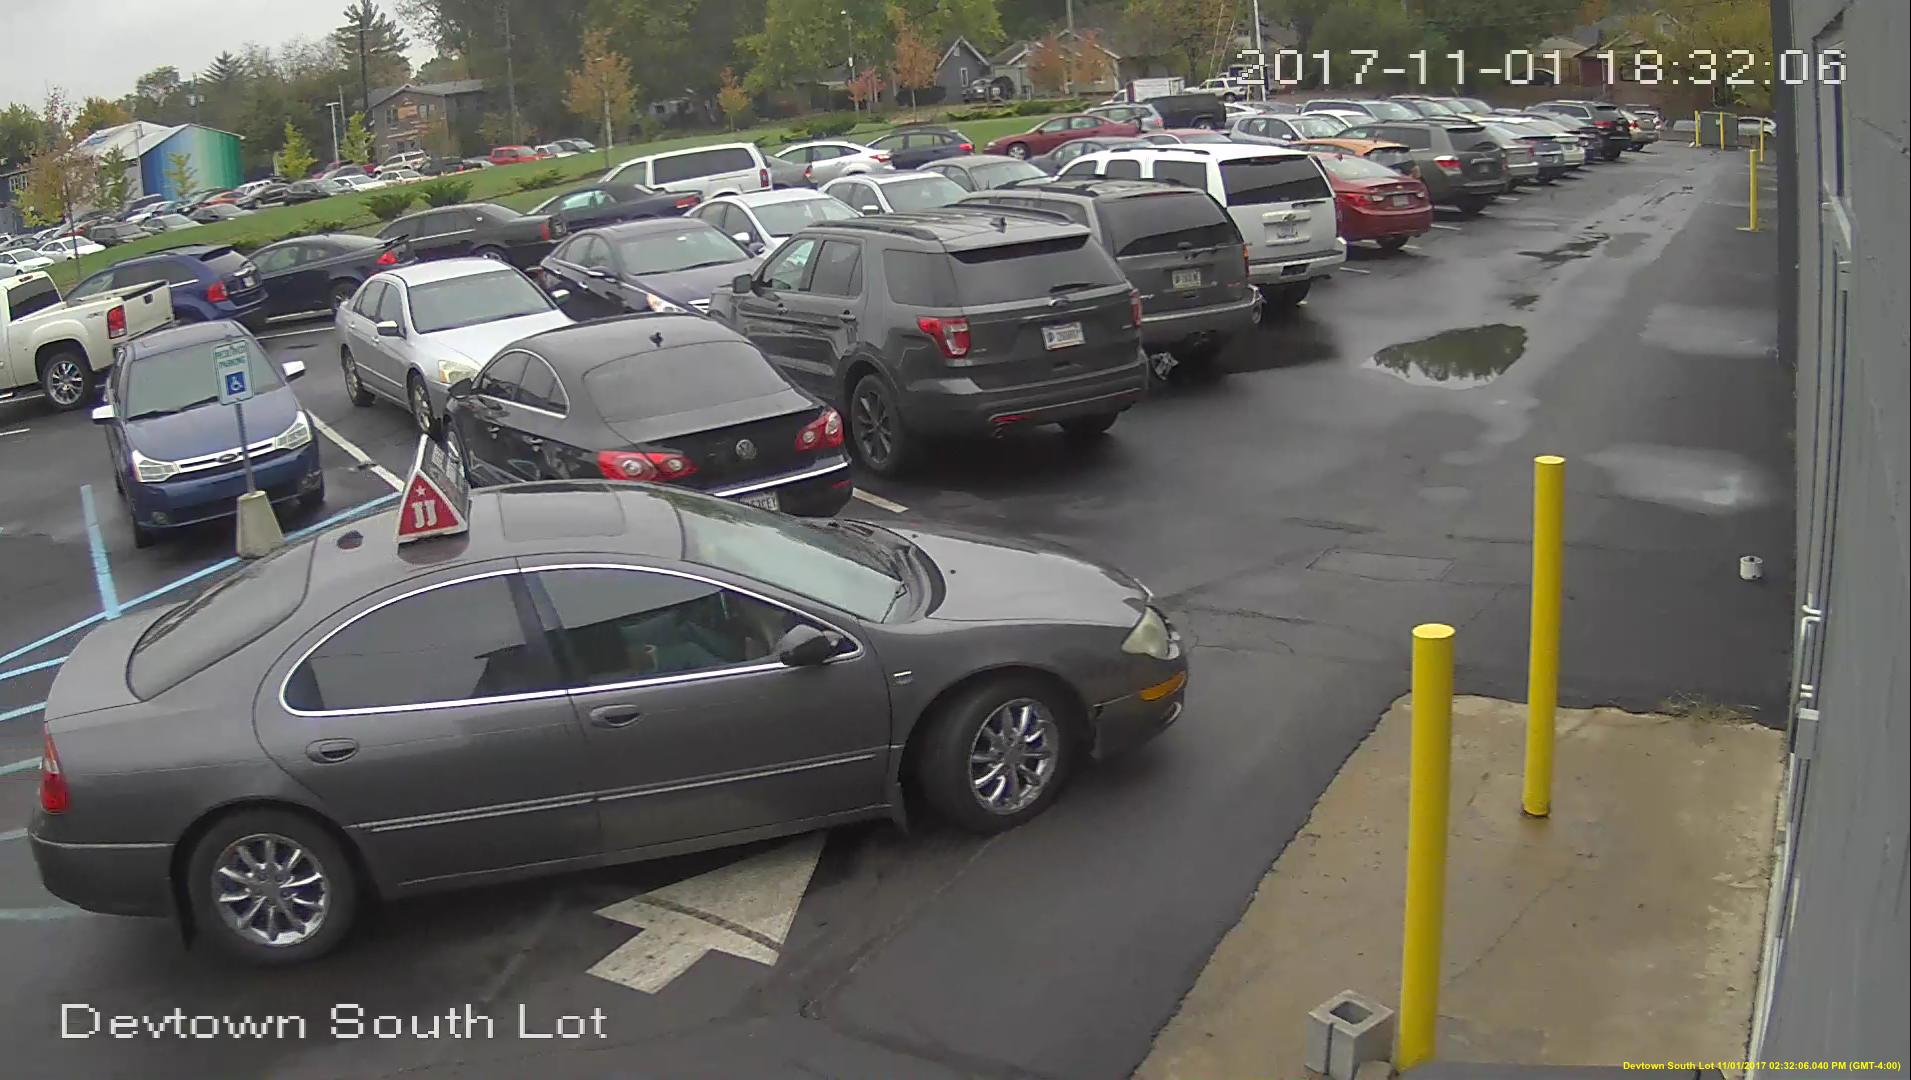jimmy_johns: (391, 430, 476, 545)
